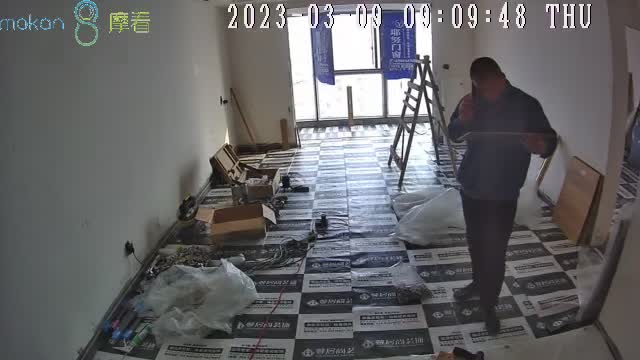people: (447, 57, 558, 336)
window: (287, 9, 432, 118)
